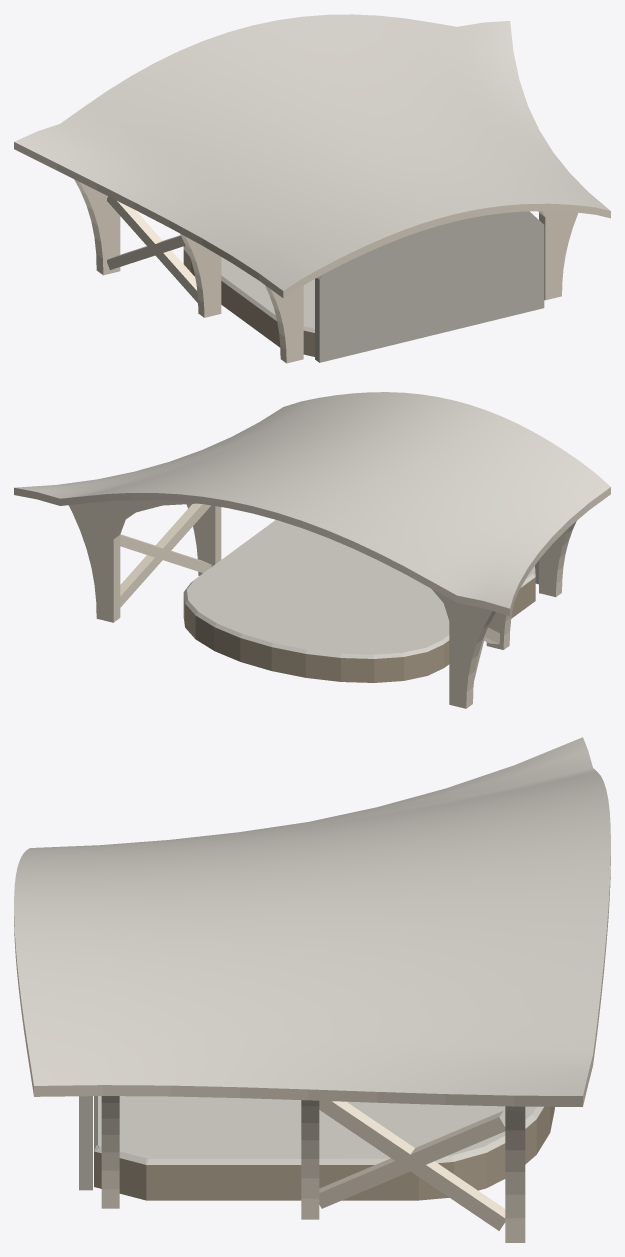
File: freedom-park-bandshell.glb
3 renders of one model, top to bottom at view 1: azimuth 30°, elevation 25°; view 2: azimuth 150°, elevation 25°; view 3: azimuth 270°, elevation 25°, orthographic. The views are drawn at different scales.
Visible parts, largest first — view 1: Freedom Park Bandshell; view 2: Freedom Park Bandshell; view 3: Freedom Park Bandshell.
Boxes of the visible parts, left/top/right/bottom form: Freedom Park Bandshell: left=14, top=14, right=610, bottom=363; Freedom Park Bandshell: left=14, top=392, right=610, bottom=708; Freedom Park Bandshell: left=14, top=737, right=610, bottom=1242.
Bounding box in the file's own units: 21.2 × 7.3 × 14.9.
